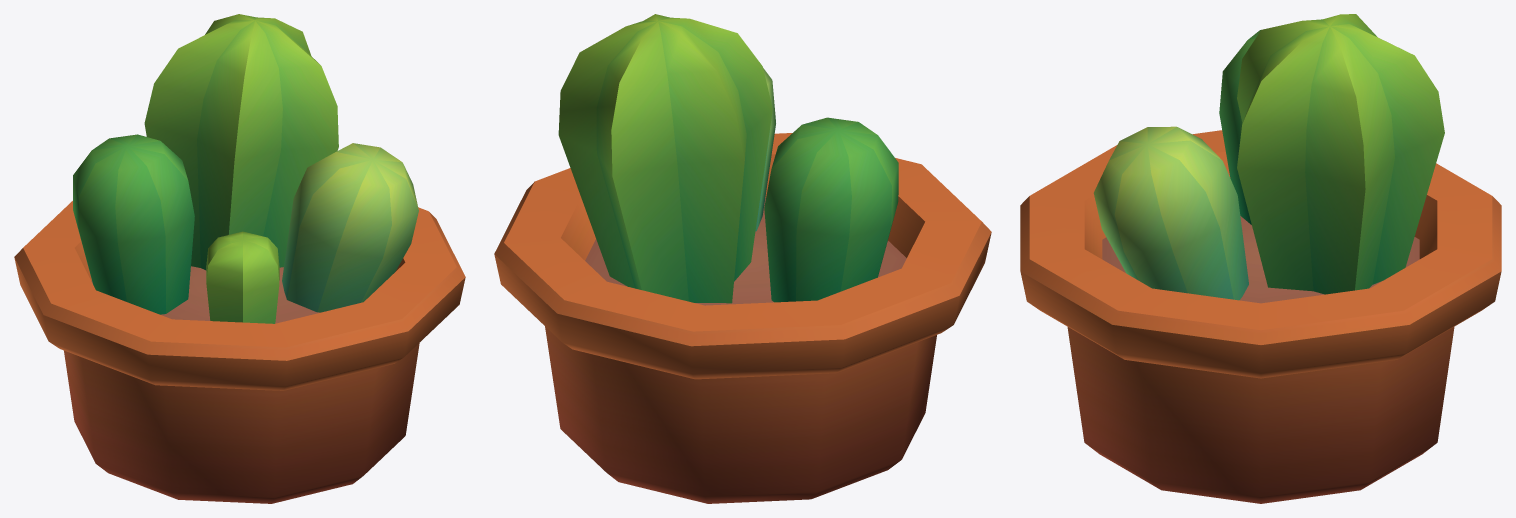
File: cactus-medium-a.glb
3 renders of one model, left to right at view 1: azimuth 30°, elevation 25°; view 2: azimuth 150°, elevation 25°; view 3: azimuth 270°, elevation 25°, orthographic. The views are drawn at different scales.
Visible parts, largest first — view 1: cactus_medium_A; view 2: cactus_medium_A; view 3: cactus_medium_A.
Boxes of the visible parts, x1=… form: cactus_medium_A: x1=14, y1=14, x2=465, y2=503; cactus_medium_A: x1=494, y1=14, x2=991, y2=503; cactus_medium_A: x1=1020, y1=14, x2=1501, y2=503.
Size of the model in its own units: 0.8799 by 0.8273 by 0.8368.
1 material, 1 textured.
